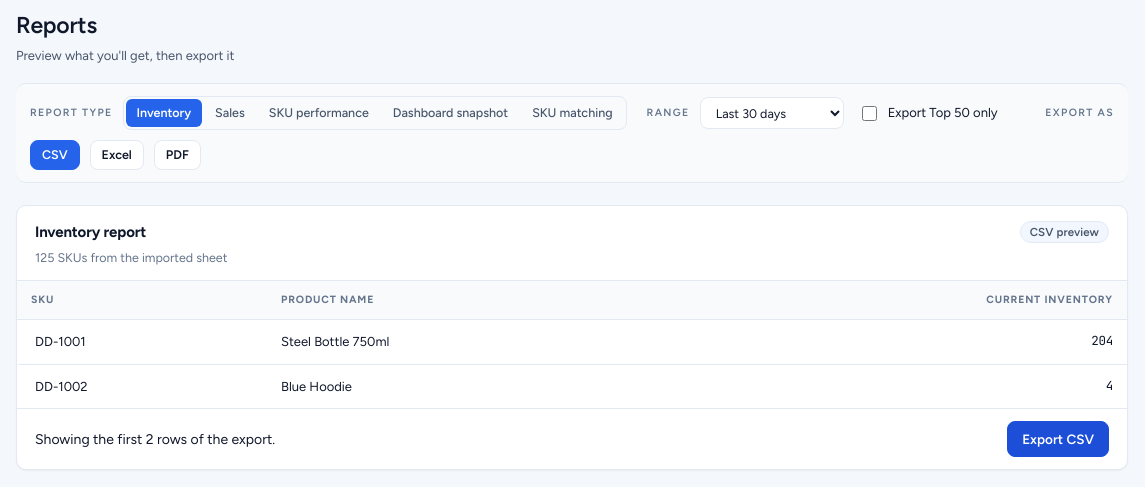
Scenario: exporting › the export button follows the chosen format
Expected: the text "DD-1001" is shown, left=17, top=320, right=267, bottom=364
Expected: the button "Export CSV" is shown, left=1007, top=421, right=1109, bottom=457
Click the button "PDF".
click(177, 155)  # box left=154, top=140, right=201, bottom=170
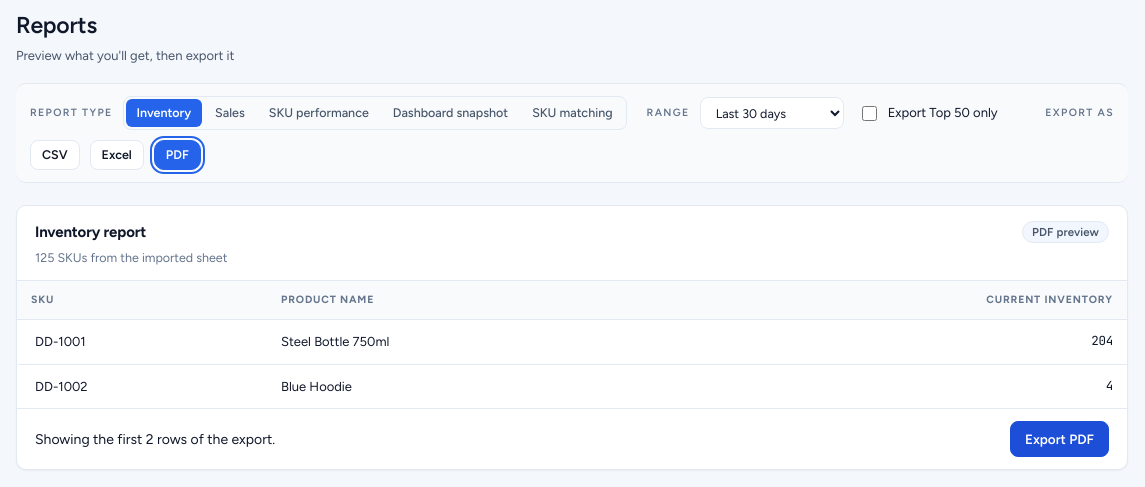
Now the button "Export PDF" is shown, box left=1010, top=421, right=1109, bottom=457
